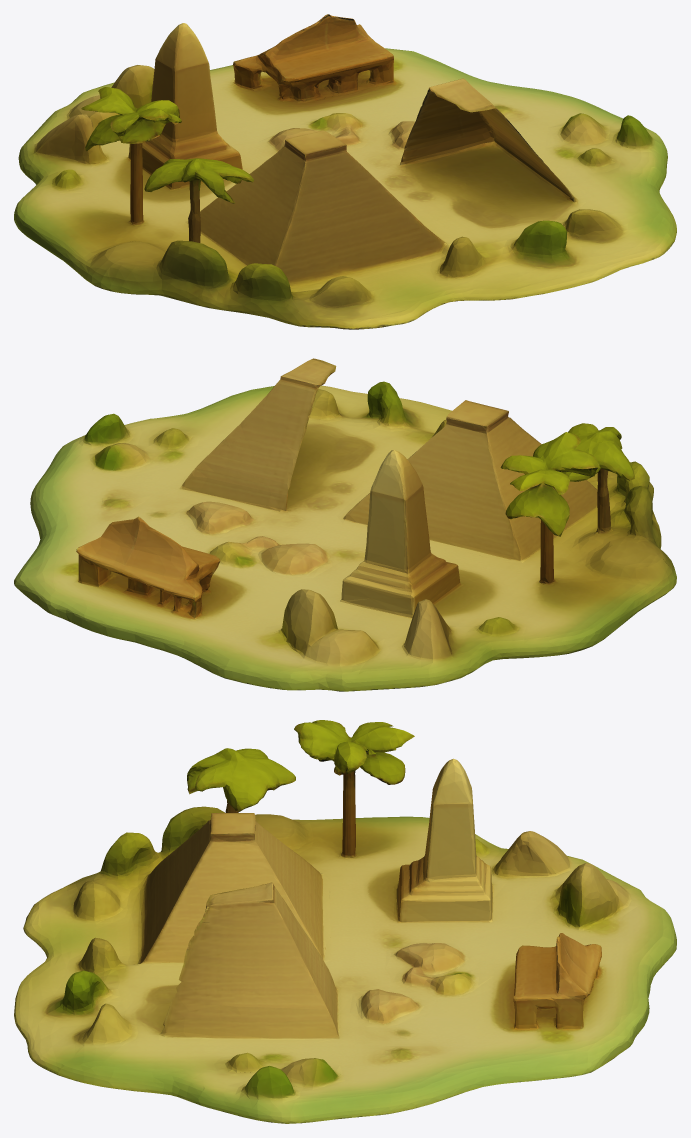
Rendered from island-sandy-steps-isle.glb.
The picture shows the model from 3 angles, top to bottom: view 1: azimuth 30°, elevation 25°; view 2: azimuth 150°, elevation 25°; view 3: azimuth 270°, elevation 25°; orthographic projection. The views are drawn at different scales.
Visible parts, largest first — view 1: world; view 2: world; view 3: world.
Boxes of the visible parts, bbox=[...] form: world: bbox=[14, 14, 676, 329]; world: bbox=[14, 358, 676, 691]; world: bbox=[14, 720, 676, 1123].
Size of the model in its own units: 0.999 by 0.2585 by 0.9501.
1 material, 1 textured.
